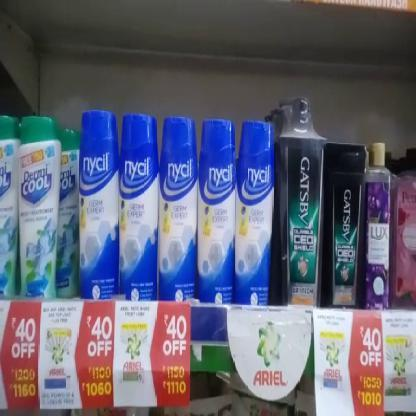Nycil Prickly Heat Powder: (118, 116, 160, 300), (235, 116, 272, 309), (160, 121, 198, 302), (80, 112, 116, 300), (198, 121, 234, 302)
